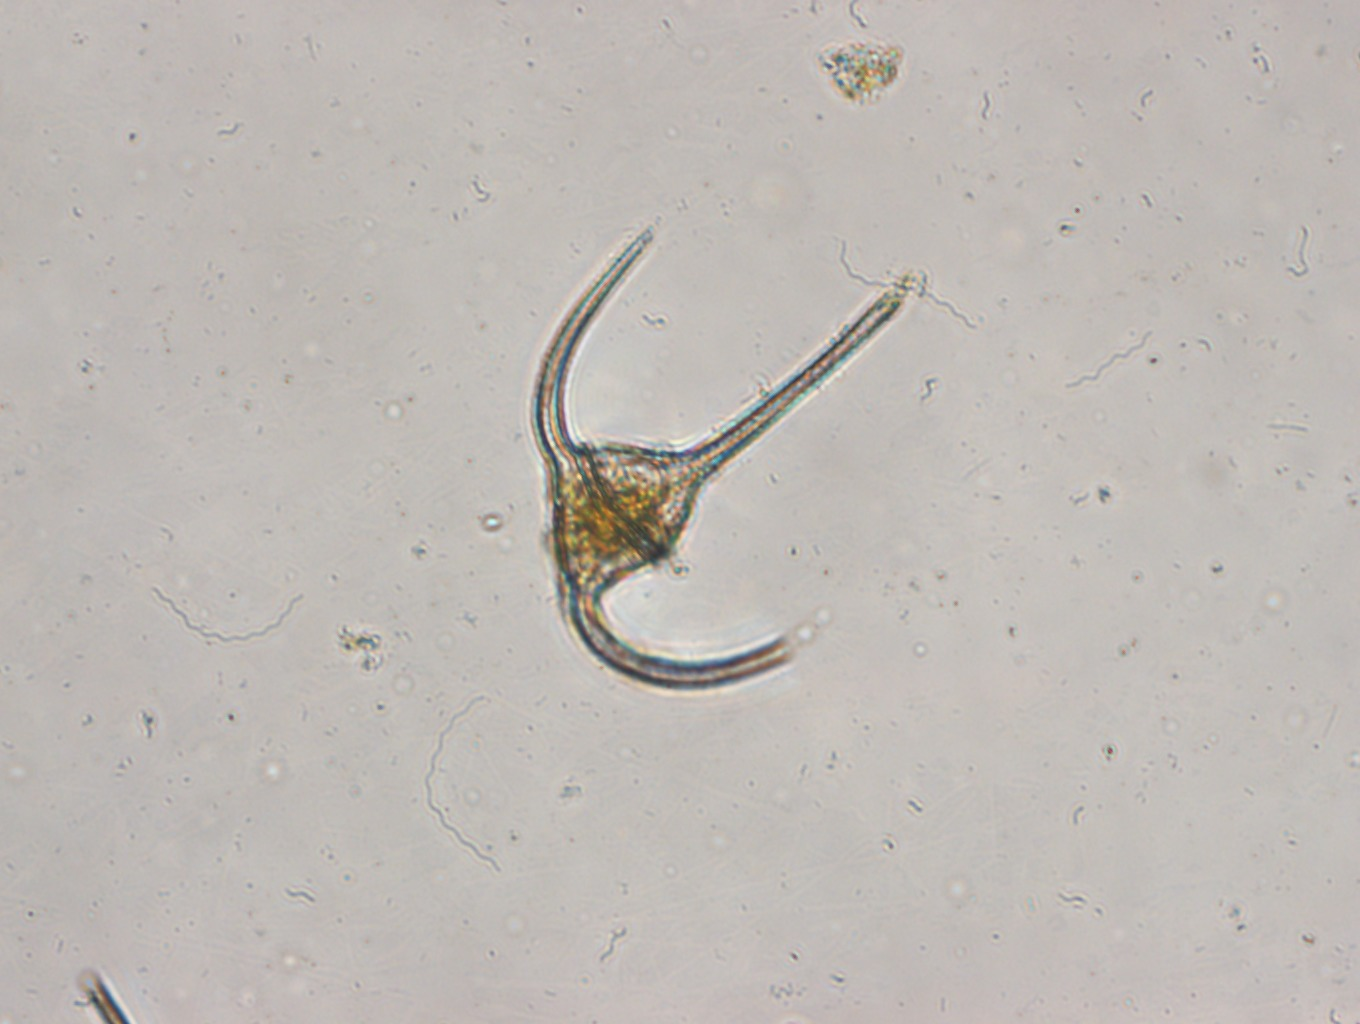ceratium trichoceros: (520, 203, 907, 700)
